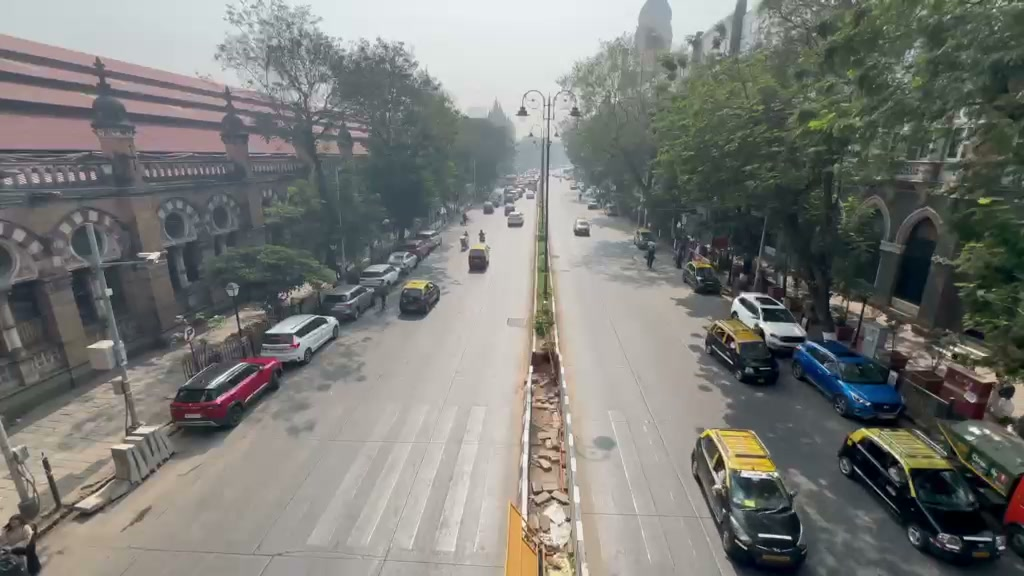car: (836, 424, 1003, 564), (690, 426, 808, 569), (791, 338, 906, 423), (168, 355, 283, 428), (935, 417, 1024, 504), (703, 318, 779, 386), (730, 292, 808, 353), (258, 313, 340, 367), (318, 282, 378, 322), (1003, 473, 1024, 556), (398, 278, 440, 318), (358, 263, 400, 296), (685, 265, 723, 295), (387, 251, 418, 271), (468, 247, 489, 273), (505, 209, 524, 228), (573, 219, 590, 237), (483, 201, 499, 215)
pedestrian: (1, 514, 42, 575)
